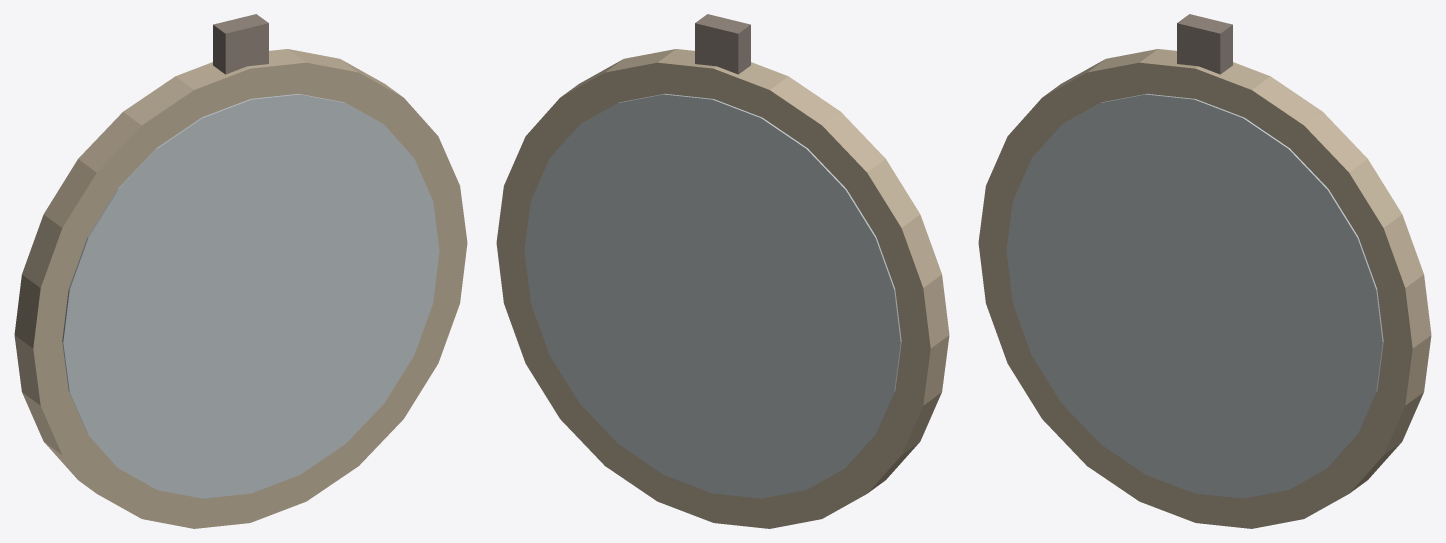
The model's file is arte_espelho_redondo.glb.
3 views of the same model, side by side, from view 1: azimuth 30°, elevation 25°; view 2: azimuth 150°, elevation 25°; view 3: azimuth 330°, elevation 25° (orthographic).
Parts seen in each view (by area): view 1: ARTE_ESPELHO_REDONDO_v01; view 2: ARTE_ESPELHO_REDONDO_v01; view 3: ARTE_ESPELHO_REDONDO_v01.
Boxes of the visible parts, bbox=[...] form: ARTE_ESPELHO_REDONDO_v01: bbox=[14, 14, 467, 528]; ARTE_ESPELHO_REDONDO_v01: bbox=[496, 14, 949, 528]; ARTE_ESPELHO_REDONDO_v01: bbox=[978, 14, 1431, 528].
Size of the model in its own units: 0.6 by 0.65 by 0.05.
